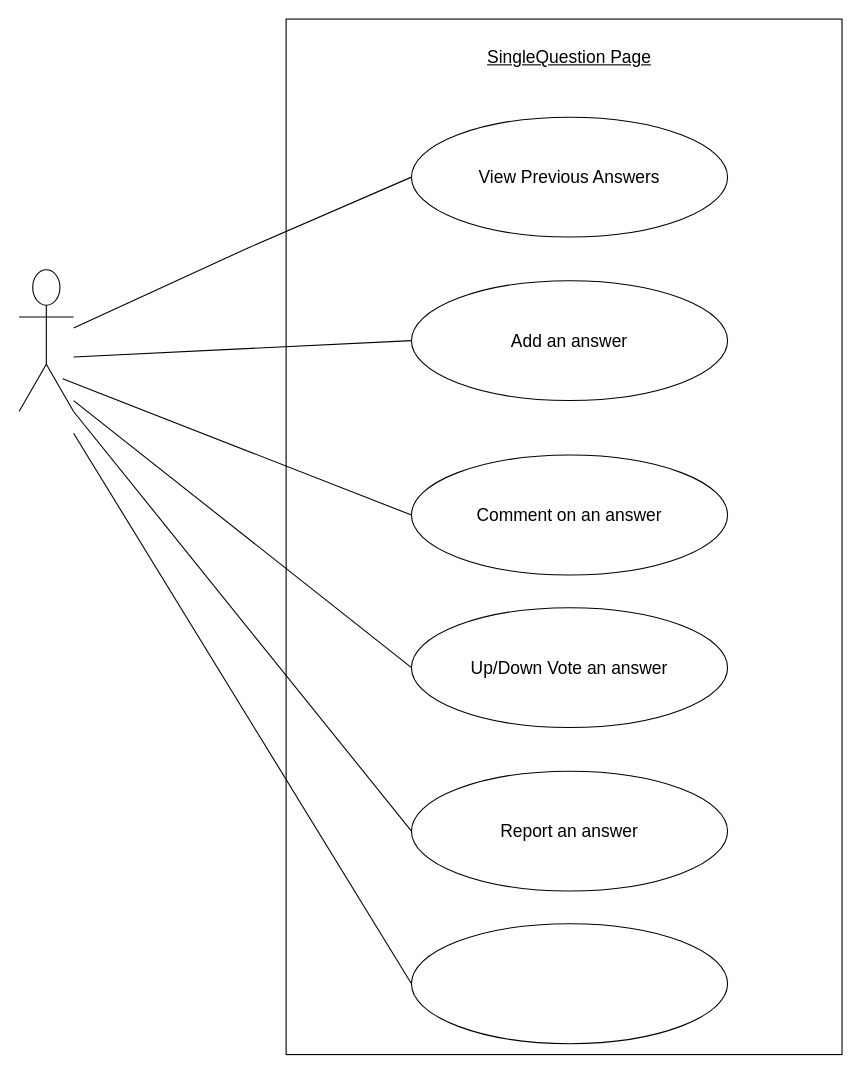
Image size: 861x1082. Some labels were removed from this diagram. Here are the shapes that lost their labels. From the top down, the centre of each, then its label:
At point (46, 340): "User".
At point (569, 983): "Edit an answer".
